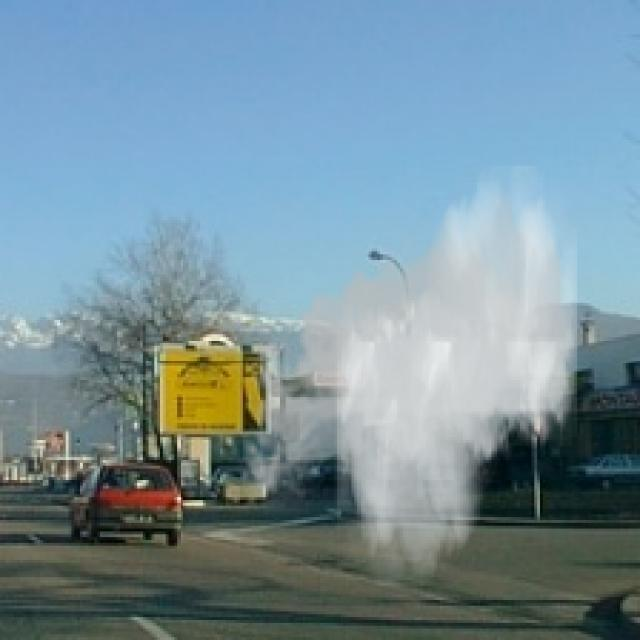Smoke: (234, 165, 577, 586)
